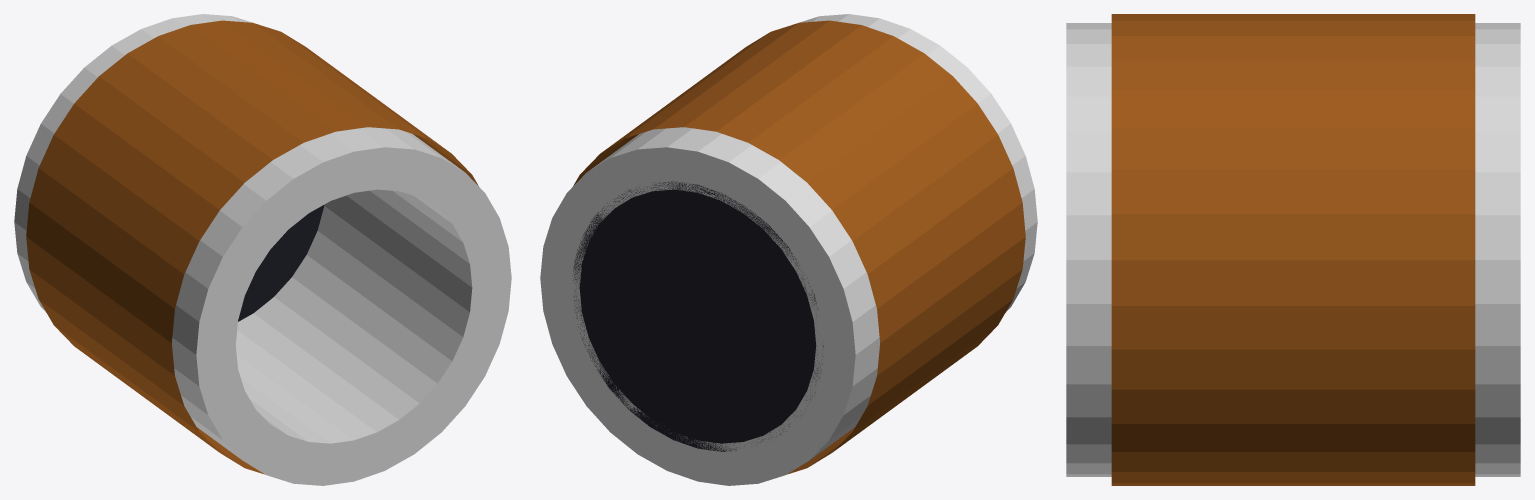
Rendered from leber-lgud-18.glb.
The picture shows the model from 3 angles, left to right: view 1: azimuth 30°, elevation 25°; view 2: azimuth 150°, elevation 25°; view 3: azimuth 270°, elevation 25°; orthographic projection. The views are drawn at different scales.
Parts seen in each view (by area): view 1: Cylinder.134, Cylinder.135, Cylinder.136; view 2: Cylinder.135, Cylinder.134, Cylinder.136; view 3: Cylinder.135, Cylinder.134.
Boxes of the visible parts, x1,y1,x2,y2 form: Cylinder.134: (14,14,511,485); Cylinder.135: (26,20,478,474); Cylinder.136: (238,205,324,321); Cylinder.135: (573,20,1025,474); Cylinder.134: (540,14,1037,485); Cylinder.136: (572,181,823,451); Cylinder.135: (1111,14,1475,485); Cylinder.134: (1066,23,1520,476).
Size of the model in its own units: 0.52 by 0.52 by 0.5.
